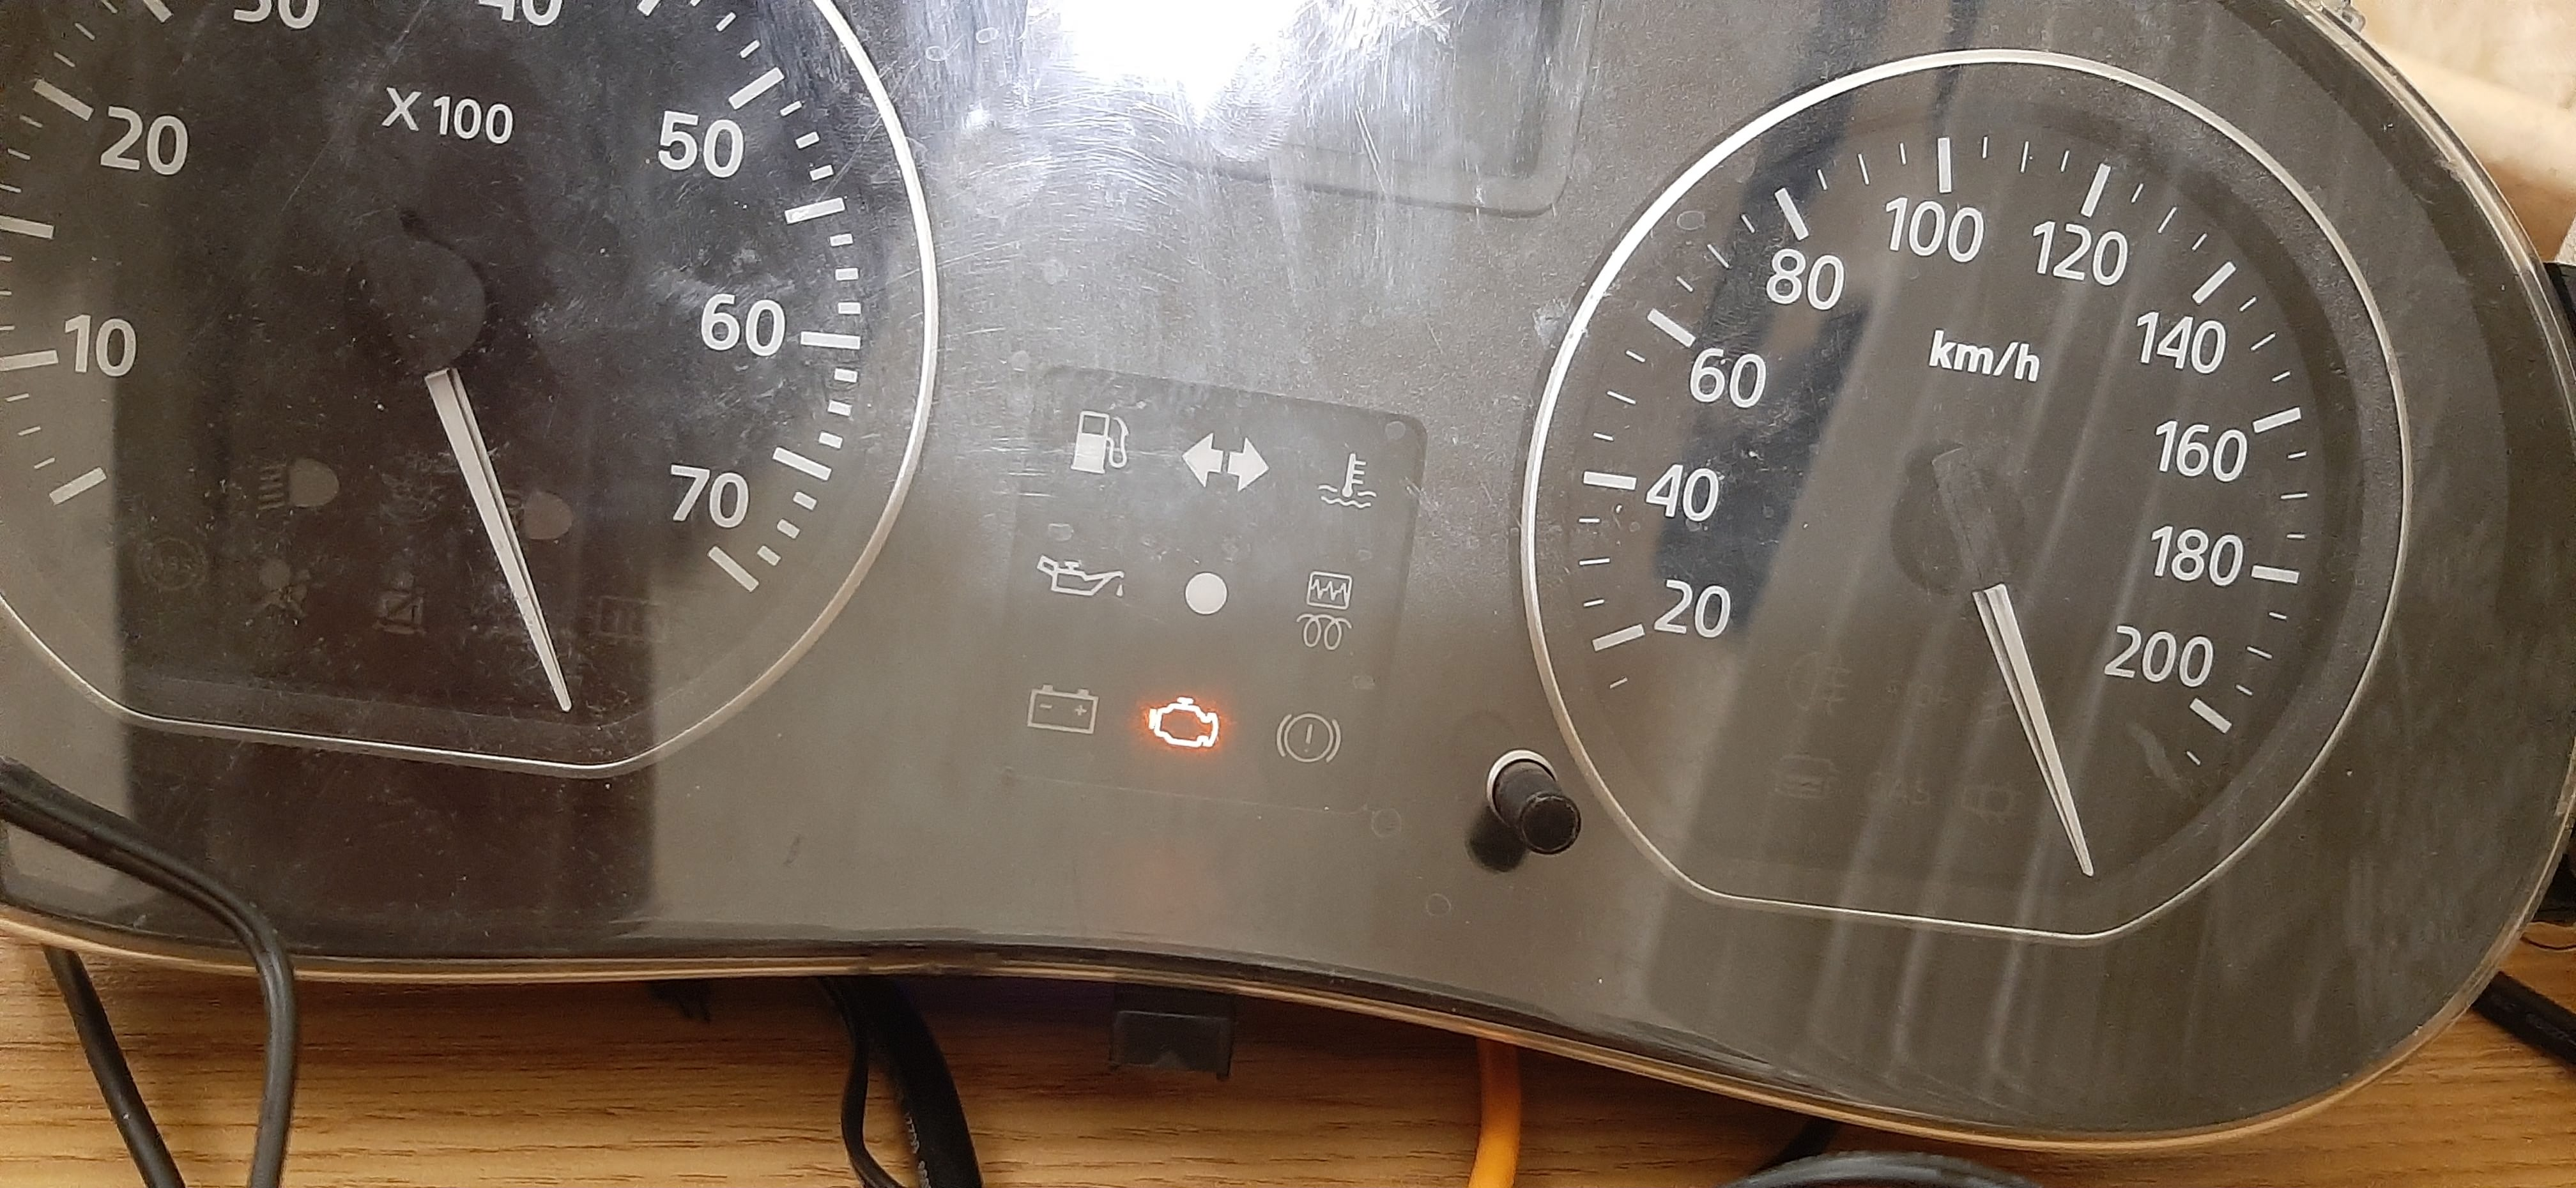engine14: (1145, 693, 1222, 749)
